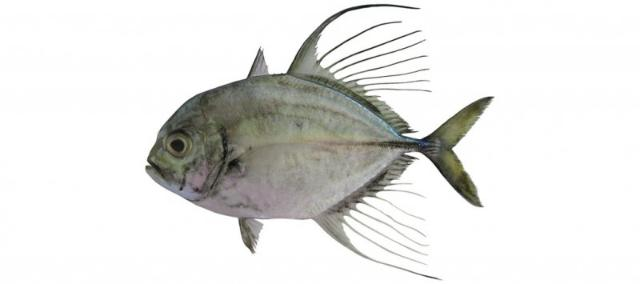Mulut: (128, 142, 166, 194)
Sirip Anal: (314, 152, 450, 284)
Sirip Dada: (226, 126, 348, 186)
Sirip Ekor: (421, 84, 504, 216)
Sirip Perut: (230, 207, 274, 265)
Sirip Punggung: (232, 0, 424, 140)
